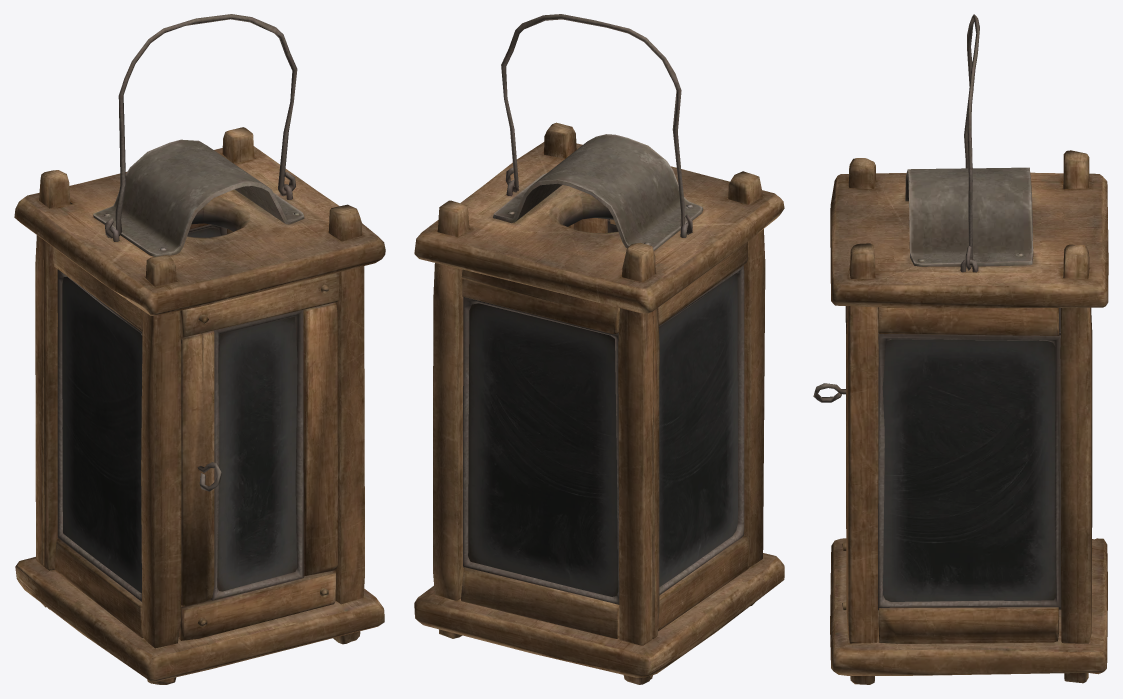
Rendered from wooden_lantern_01.glb.
The picture shows the model from 3 angles, left to right: view 1: azimuth 30°, elevation 25°; view 2: azimuth 150°, elevation 25°; view 3: azimuth 270°, elevation 25°; orthographic projection.
Parts seen in each view (by area): view 1: wooden_lantern_01; view 2: wooden_lantern_01; view 3: wooden_lantern_01.
Part boxes in pixels (x1,y1,x2,y2): wooden_lantern_01: (14, 14, 385, 684); wooden_lantern_01: (414, 14, 784, 684); wooden_lantern_01: (813, 14, 1108, 684).
Bounding box in the file's own units: 0.221 × 0.5296 × 0.2341.
2 materials, 2 textured.
